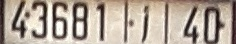0: (203, 5, 221, 44)
1: (95, 2, 106, 42)
3: (30, 0, 48, 39)
4: (10, 0, 28, 39), (183, 4, 200, 44)
6: (52, 0, 68, 40)
8: (72, 1, 89, 41)
a: (140, 4, 150, 43)
